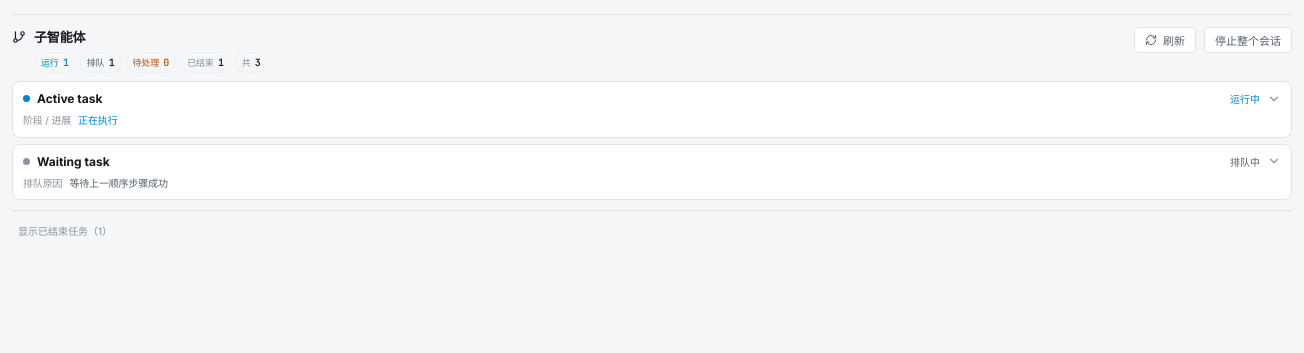
Test: ChildTasksPane › prioritizes running work over queued work and shows the current report
The width and height of the screenshot is (1304, 353).
What coordinates should you click on to do the following:
click the button with class "child-task-summary" showing "Waiting task 排队中"
I would click on:
 (73, 161)
Its box is [23,154,1281,168].
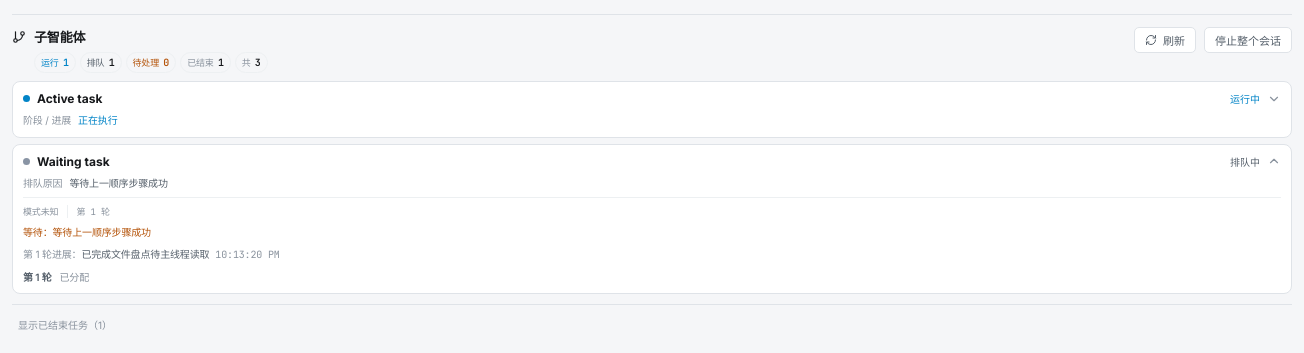
expect the text "等待上一顺序步骤成功" is shown: met, box [69,176,168,188]
expect the text "等待：" is shown: met, box [23,226,52,238]
expect the text "已完成文件盘点" is shown: met, box [81,248,150,260]
